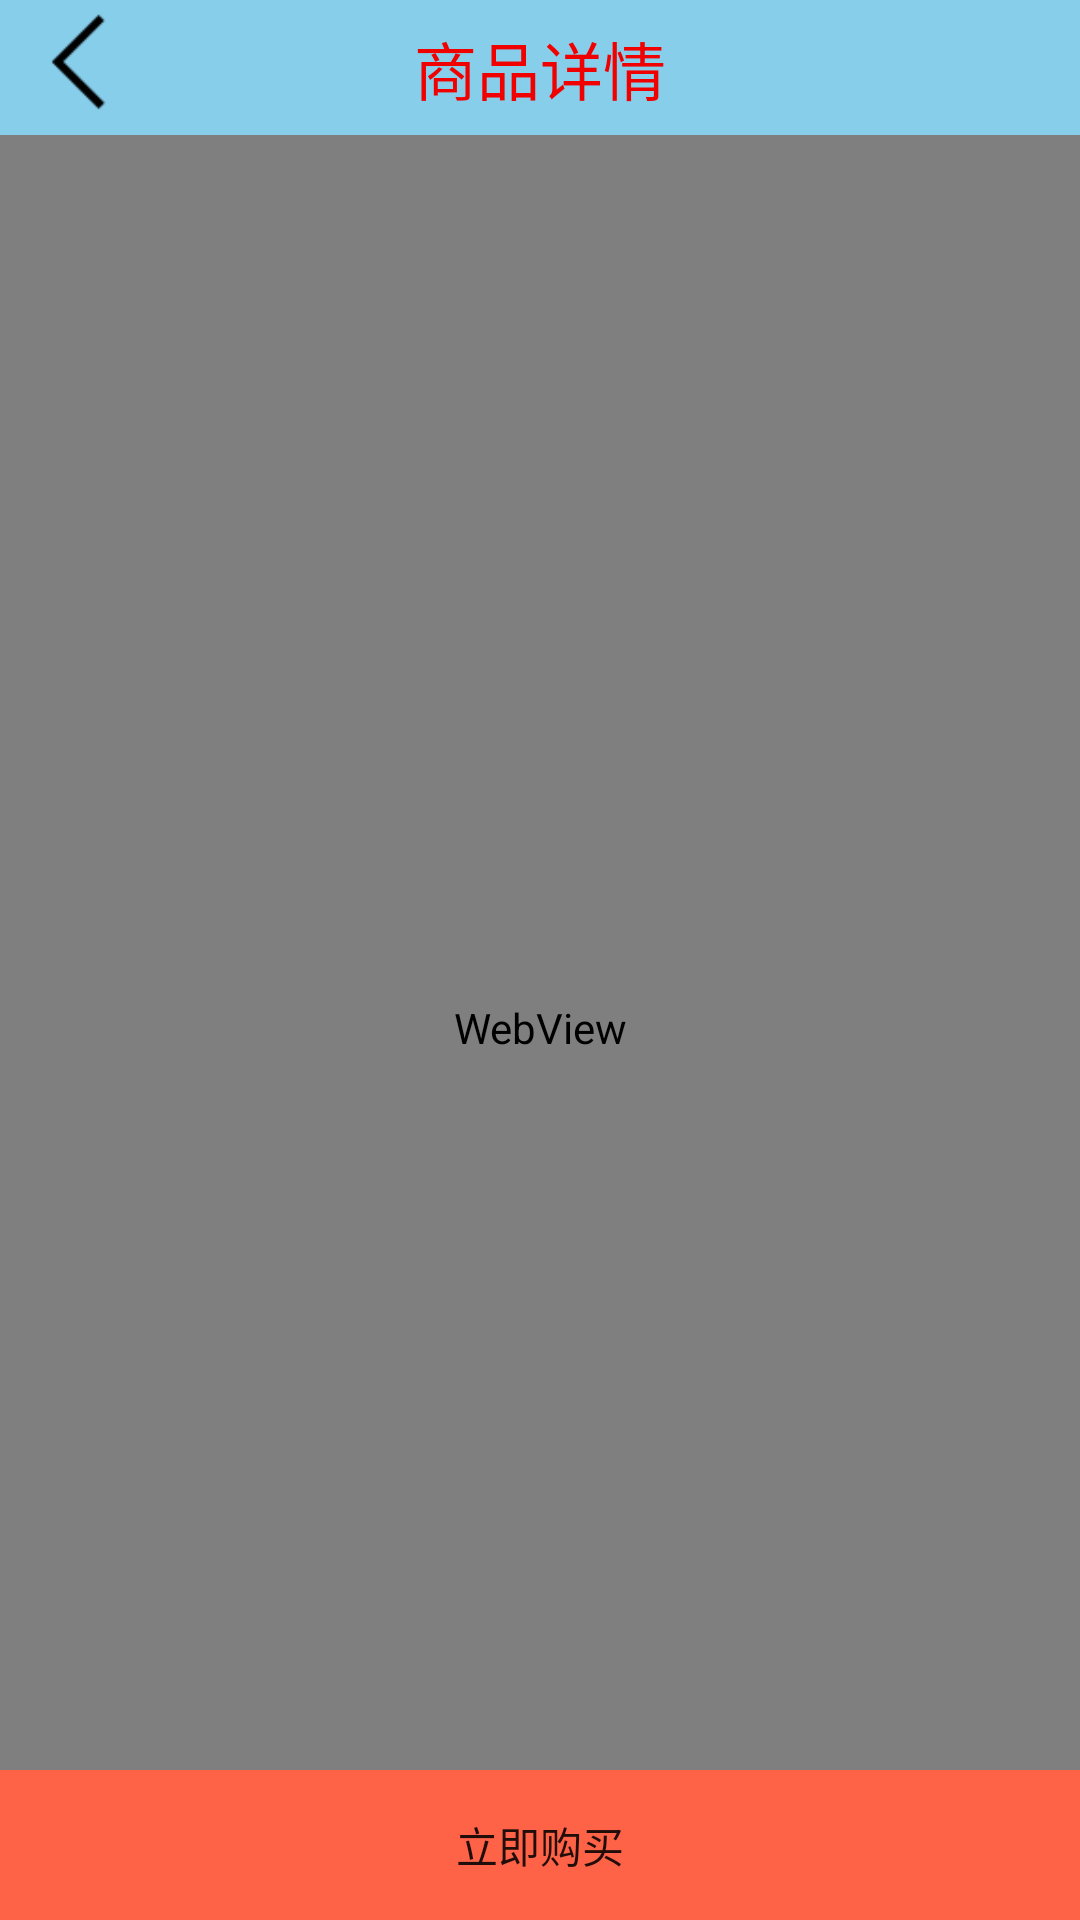

Point at icon controls on the screen. Image size 1080px x 1920px, points as point (x, y).
back: point (78, 61)
